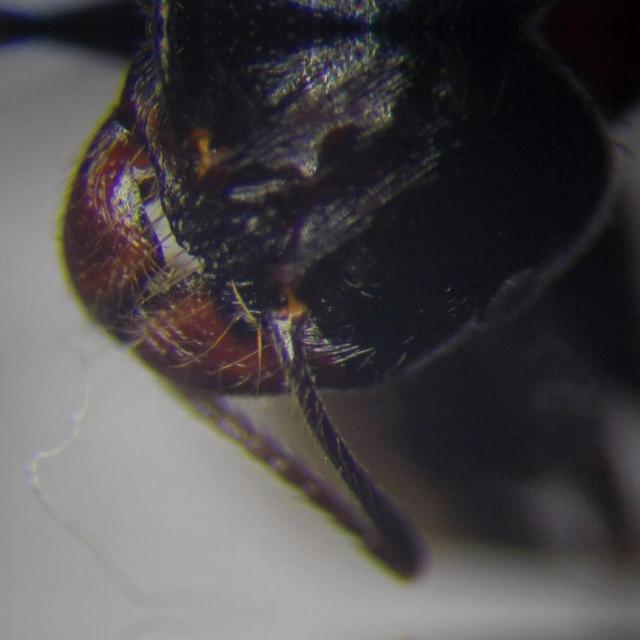Messor: (41, 27, 640, 495)
